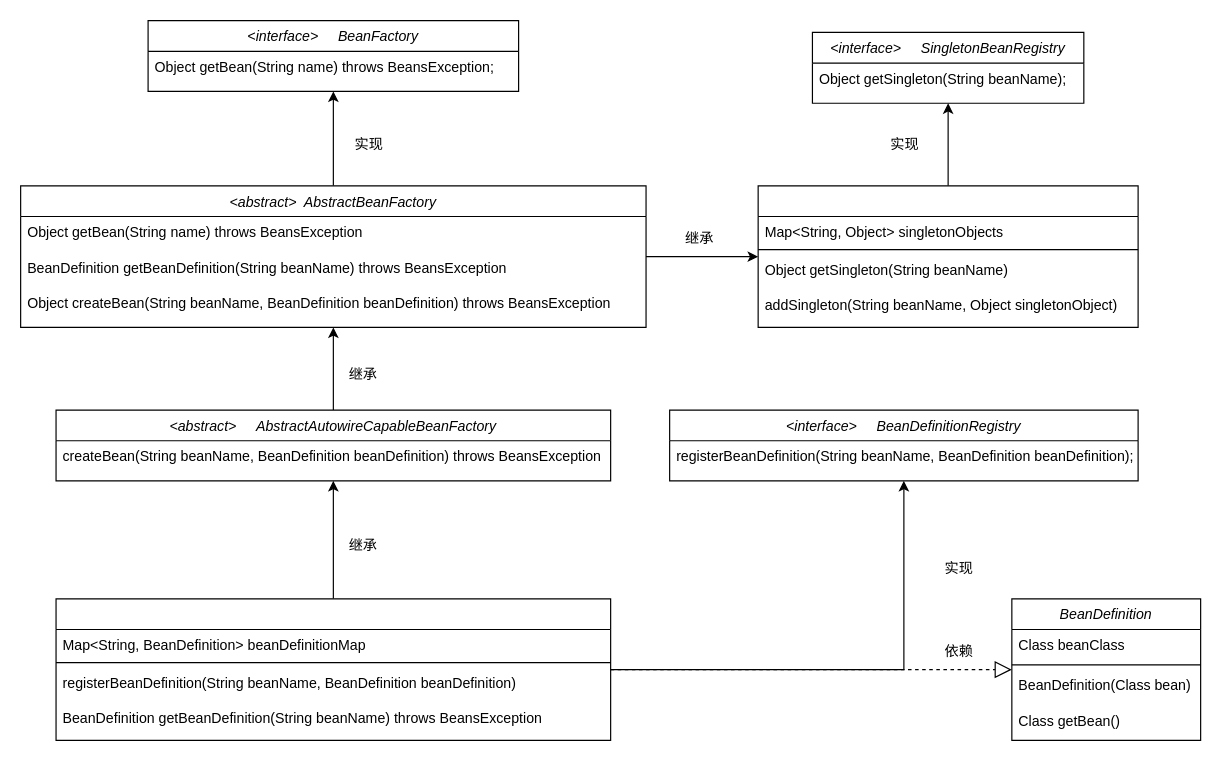
The diagram is 1221 pixels wide and 765 high, and some of its shapes have lost their labels. Each missing label, with the box of its shape:
DefaultListableBeanFactory: (55, 598, 611, 740)
DefaultSingletonBeanRegistry: (757, 185, 1138, 327)
